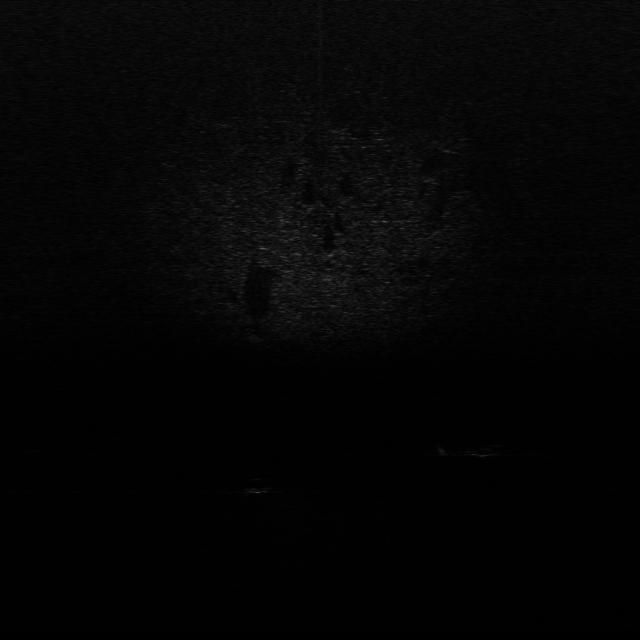ball: (242, 472, 277, 495)
human body: (432, 438, 513, 462)
